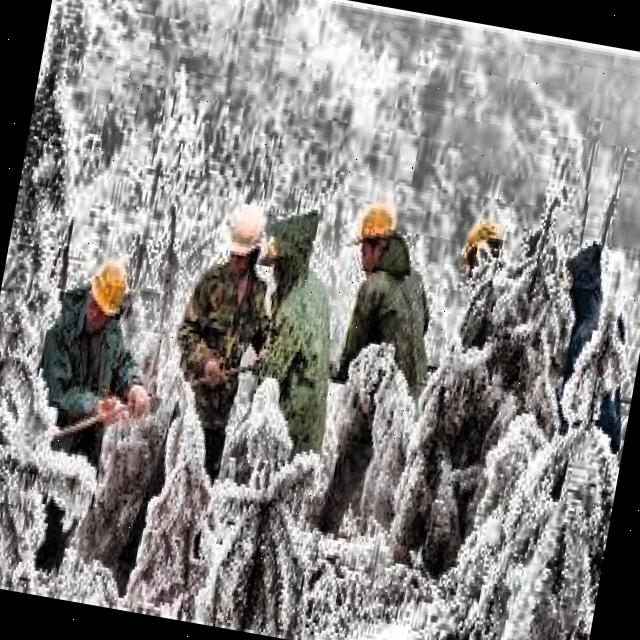helmet: (81, 245, 137, 339), (214, 198, 275, 284), (348, 190, 406, 278), (459, 210, 509, 282)
